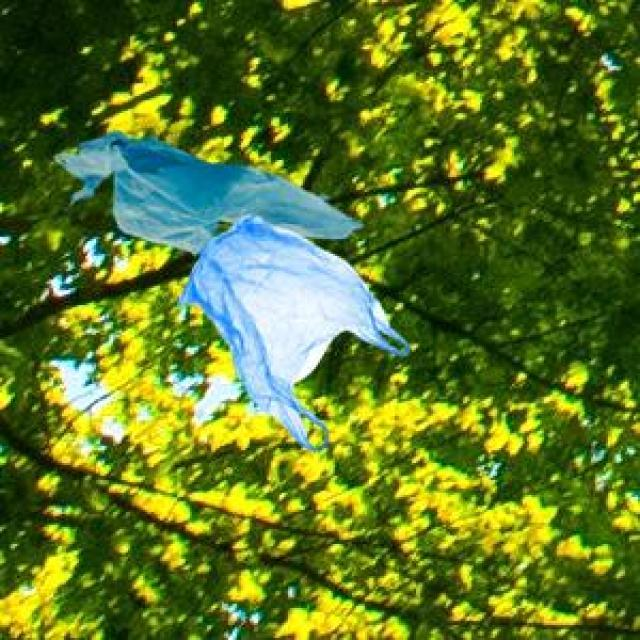Plastic_Bag: (176, 212, 406, 447), (53, 129, 360, 253)
